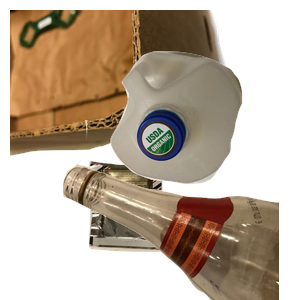cardboard: (10, 10, 237, 158)
glass: (60, 120, 300, 300)
plastic: (108, 49, 300, 226)
trash: (86, 158, 242, 300)
